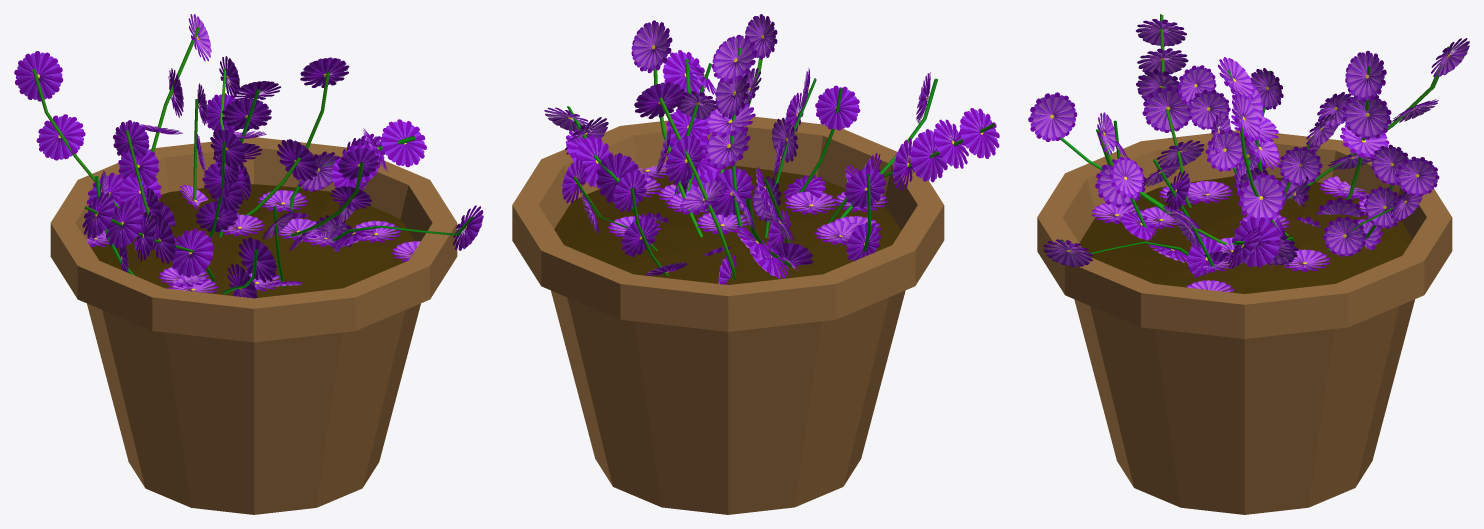
The model's file is Flower2_Frame1.fbx.
3 renders of one model, left to right at view 1: azimuth 30°, elevation 25°; view 2: azimuth 150°, elevation 25°; view 3: azimuth 270°, elevation 25°, orthographic. The views are drawn at different scales.
Visible parts, largest first — view 1: Cylinder.002, Circle.004, BézierCurve.002|Circle|Dupli|9, BézierCurve.002|Circle|Dupli|8, BézierCurve.001|Circle|Dupli|1, BézierCurve.002|Circle|Dupli|3, BézierCurve.002|Circle|Dupli|2, BézierCurve.004, BézierCurve.003|Circle|Dupli|2, BézierCurve.004|Circle|Dupli|5, BézierCurve.003|Circle|Dupli|8, BézierCurve.004|Circle|Dupli|6 (+28 smaller); view 2: Cylinder.002, Circle.004, BézierCurve.004|Circle|Dupli|6, BézierCurve.003|Circle|Dupli|1, BézierCurve.008|Circle.001|Dupli|8, BézierCurve.002|Circle|Dupli|1, BézierCurve.002|Circle|Dupli|, BézierCurve.004|Circle|Dupli|1, BézierCurve.004|Circle|Dupli|, BézierCurve.003|Circle|Dupli|4, BézierCurve.003|Circle|Dupli|3, BézierCurve.006|Circle.001|Dupli|8 (+31 smaller); view 3: Cylinder.002, Circle.004, BézierCurve.003|Circle|Dupli|8, BézierCurve.004|Circle|Dupli|5, BézierCurve.004|Circle|Dupli|, BézierCurve.002|Circle|Dupli|4, BézierCurve.004|Circle|Dupli|1, BézierCurve.001|Circle|Dupli|2, BézierCurve.005|Circle.001|Dupli|2, BézierCurve.005|Circle.001|Dupli|1, BézierCurve.006|Circle.001|Dupli|2, BézierCurve.007|Circle.001|Dupli|4 (+34 smaller).
Part boxes in pixels (<box>): Cylinder.002: <box>50,137,457,514</box>; Circle.004: <box>89,184,414,297</box>; BézierCurve.002|Circle|Dupli|9: <box>14,51,63,101</box>; BézierCurve.002|Circle|Dupli|8: <box>36,114,85,160</box>; BézierCurve.001|Circle|Dupli|1: <box>380,119,426,167</box>; BézierCurve.002|Circle|Dupli|3: <box>172,228,214,277</box>; BézierCurve.002|Circle|Dupli|2: <box>106,200,142,248</box>; BézierCurve.004: <box>151,26,329,215</box>; BézierCurve.003|Circle|Dupli|2: <box>222,98,271,131</box>; BézierCurve.004|Circle|Dupli|5: <box>277,139,317,181</box>; BézierCurve.003|Circle|Dupli|8: <box>238,237,276,282</box>; BézierCurve.004|Circle|Dupli|6: <box>300,57,349,87</box>; Cylinder.002: <box>512,116,944,514</box>; Circle.004: <box>554,165,901,284</box>; BézierCurve.004|Circle|Dupli|6: <box>631,20,672,73</box>; BézierCurve.003|Circle|Dupli|1: <box>711,34,757,83</box>; BézierCurve.008|Circle.001|Dupli|8: <box>815,85,860,130</box>; BézierCurve.002|Circle|Dupli|1: <box>959,108,999,158</box>; BézierCurve.002|Circle|Dupli|: <box>910,129,947,182</box>; BézierCurve.004|Circle|Dupli|1: <box>634,82,684,118</box>; BézierCurve.004|Circle|Dupli|: <box>665,135,702,185</box>; BézierCurve.003|Circle|Dupli|4: <box>705,123,750,169</box>; BézierCurve.003|Circle|Dupli|3: <box>711,167,754,217</box>; BézierCurve.006|Circle.001|Dupli|8: <box>844,168,886,208</box>; Cylinder.002: <box>1037,130,1452,514</box>; Circle.004: <box>1079,176,1412,293</box>; BézierCurve.003|Circle|Dupli|8: <box>1028,92,1077,141</box>; BézierCurve.004|Circle|Dupli|5: <box>1238,172,1285,221</box>; BézierCurve.004|Circle|Dupli|: <box>1342,95,1391,139</box>; BézierCurve.002|Circle|Dupli|4: <box>1142,86,1190,132</box>; BézierCurve.004|Circle|Dupli|1: <box>1345,50,1386,102</box>; BézierCurve.001|Circle|Dupli|2: <box>1231,216,1280,267</box>; BézierCurve.005|Circle.001|Dupli|2: <box>1323,216,1366,256</box>; BézierCurve.005|Circle.001|Dupli|1: <box>1395,156,1439,196</box>; BézierCurve.006|Circle.001|Dupli|2: <box>1187,89,1230,129</box>; BézierCurve.007|Circle.001|Dupli|4: <box>1278,146,1322,185</box>.
Size of the model in its own units: 2.48 by 2.45 by 2.41.
